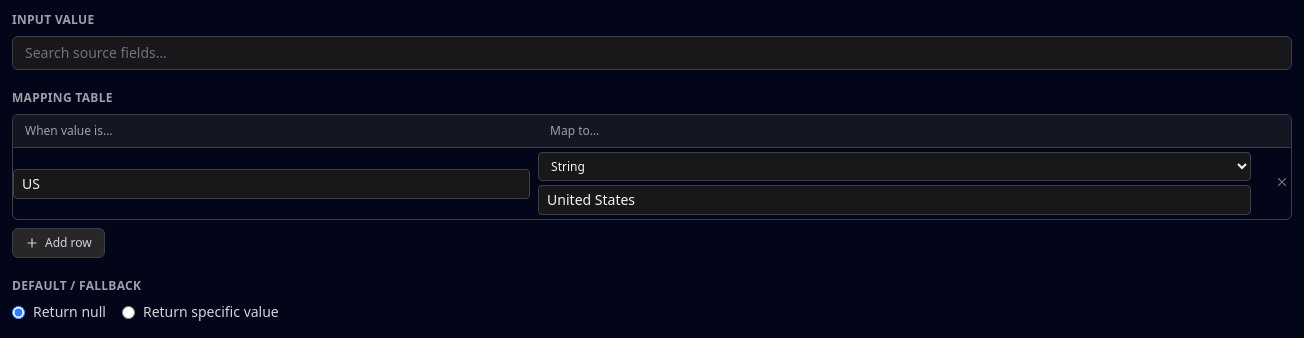
Test: ValueMapModeBuilder — mapping table › removing last row shows empty state
The width and height of the screenshot is (1304, 338).
Click the button with test id "value-map-remove-row-0" at (1282, 182), box x1=1273 y1=173 x2=1291 y2=191
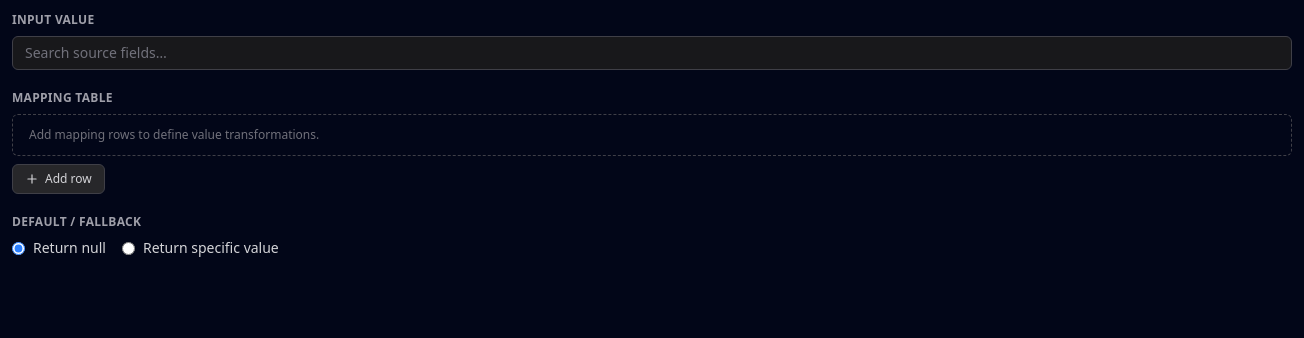
Expected: the text "Add mapping rows to define value transformations." is shown, x1=12 y1=114 x2=1292 y2=156
